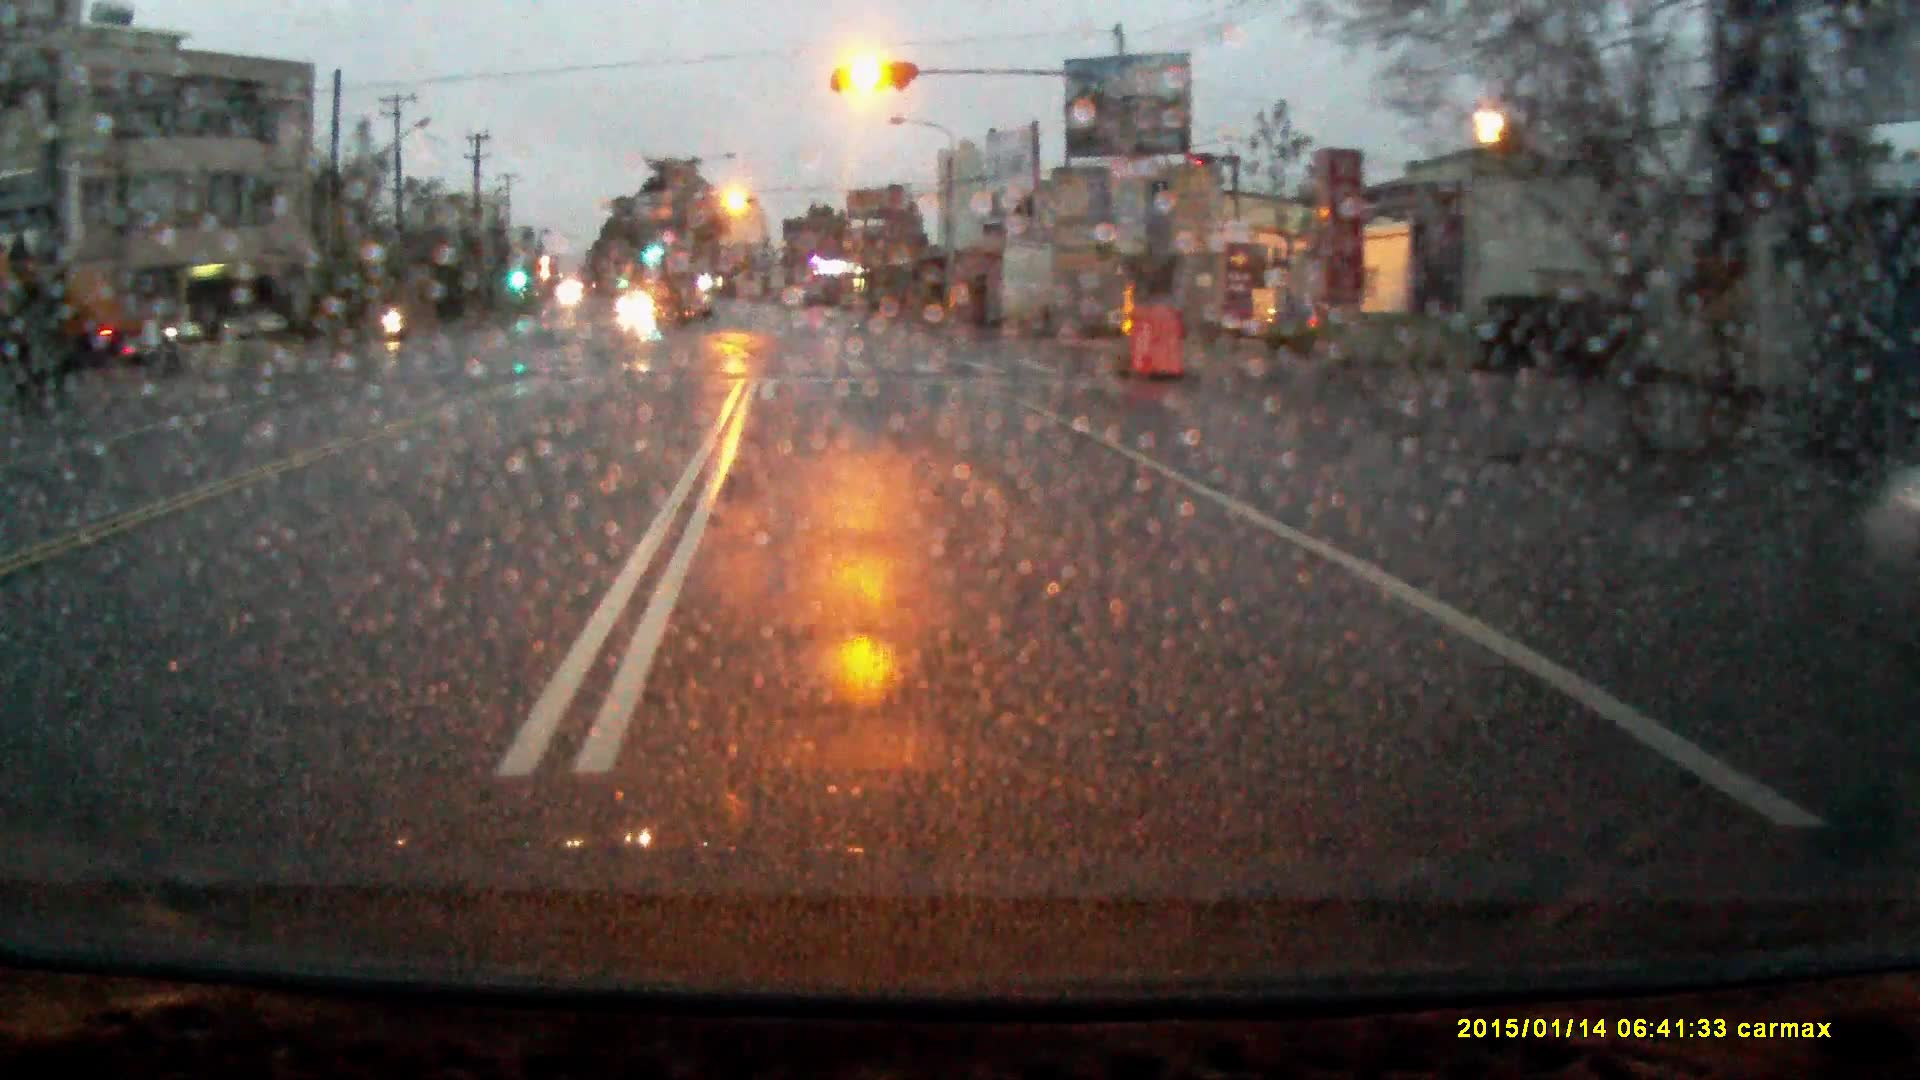rider: (379, 278, 406, 342)
vehicle: (1, 258, 134, 366), (618, 289, 655, 316)
